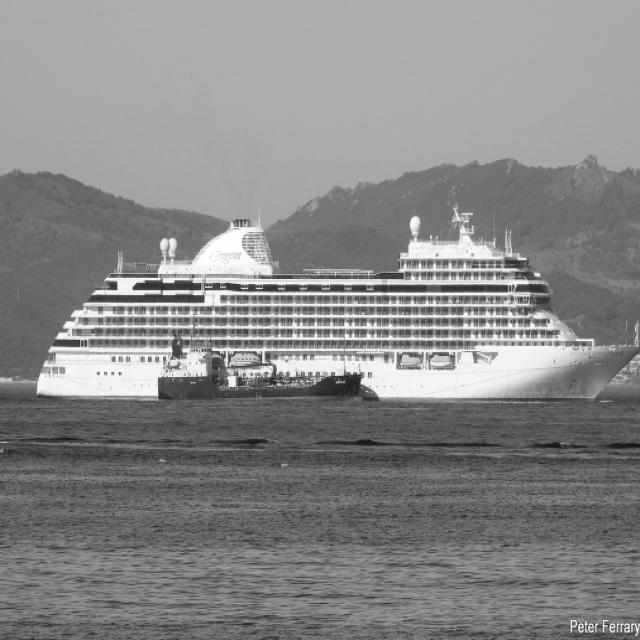cruises: (31, 198, 640, 411)
